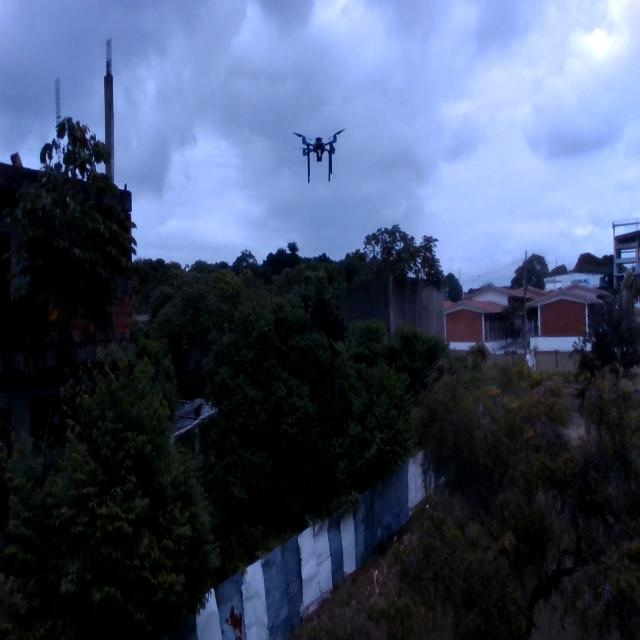-uav-: (288, 118, 352, 186)
